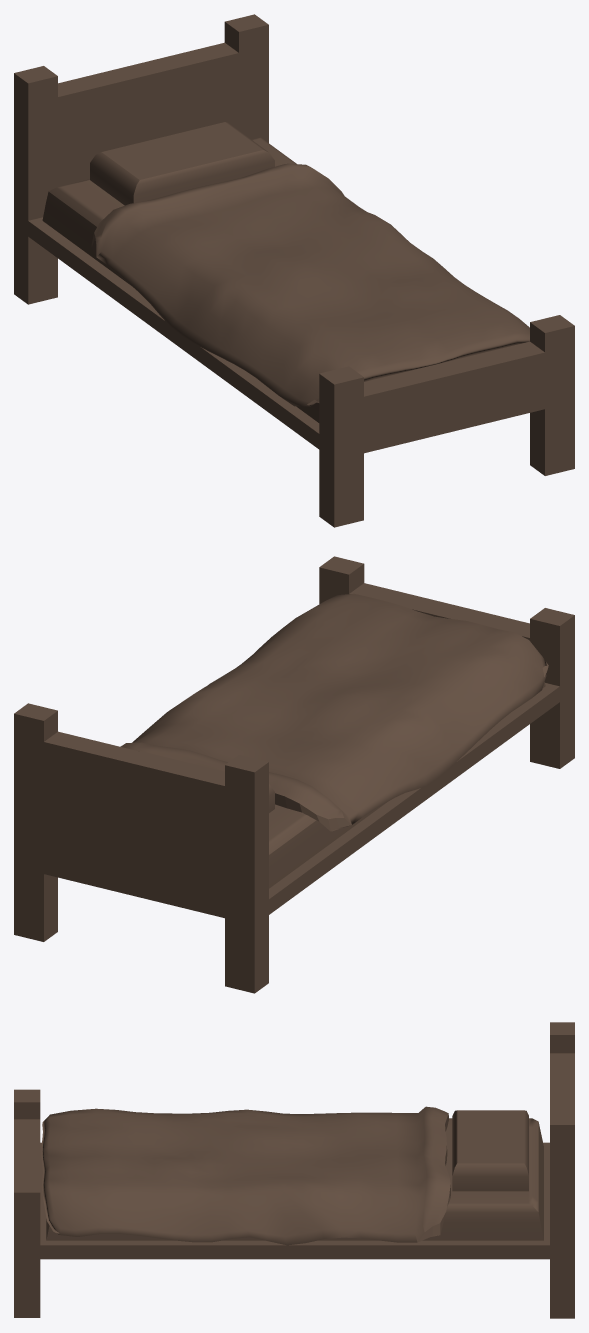
Rendered from Cama 1.fbx.
3 renders of one model, top to bottom at view 1: azimuth 30°, elevation 25°; view 2: azimuth 150°, elevation 25°; view 3: azimuth 270°, elevation 25°, orthographic. The views are drawn at different scales.
Parts seen in each view (by area): view 1: Cama, sabana; view 2: Cama, sabana; view 3: sabana, Cama.
Part boxes in pixels (x1,y1,x2,y2): Cama: (14,14,574,527); sabana: (91,163,529,406); Cama: (14,556,574,993); sabana: (120,593,548,831); sabana: (41,1106,450,1245); Cama: (14,1022,574,1318).
Size of the model in its own units: 1.52 by 1.26 by 3.3.
